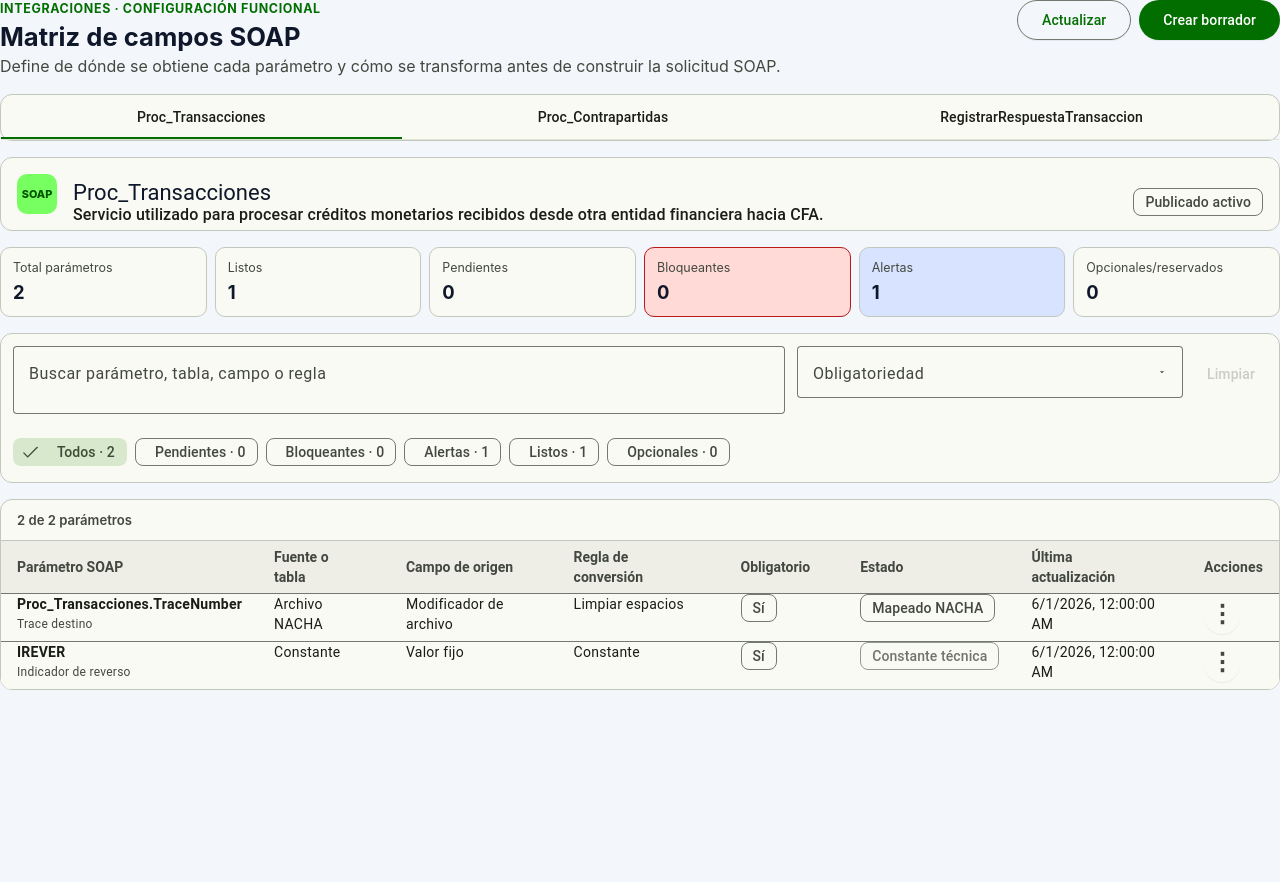
it: MappingSetsPageComponent › clasifica Transaction como fuente transaccional mapeada y no como Sin mapear
Click the tab with test id "soap-service-option": (603, 117) x1=538 y1=109 x2=668 y2=125
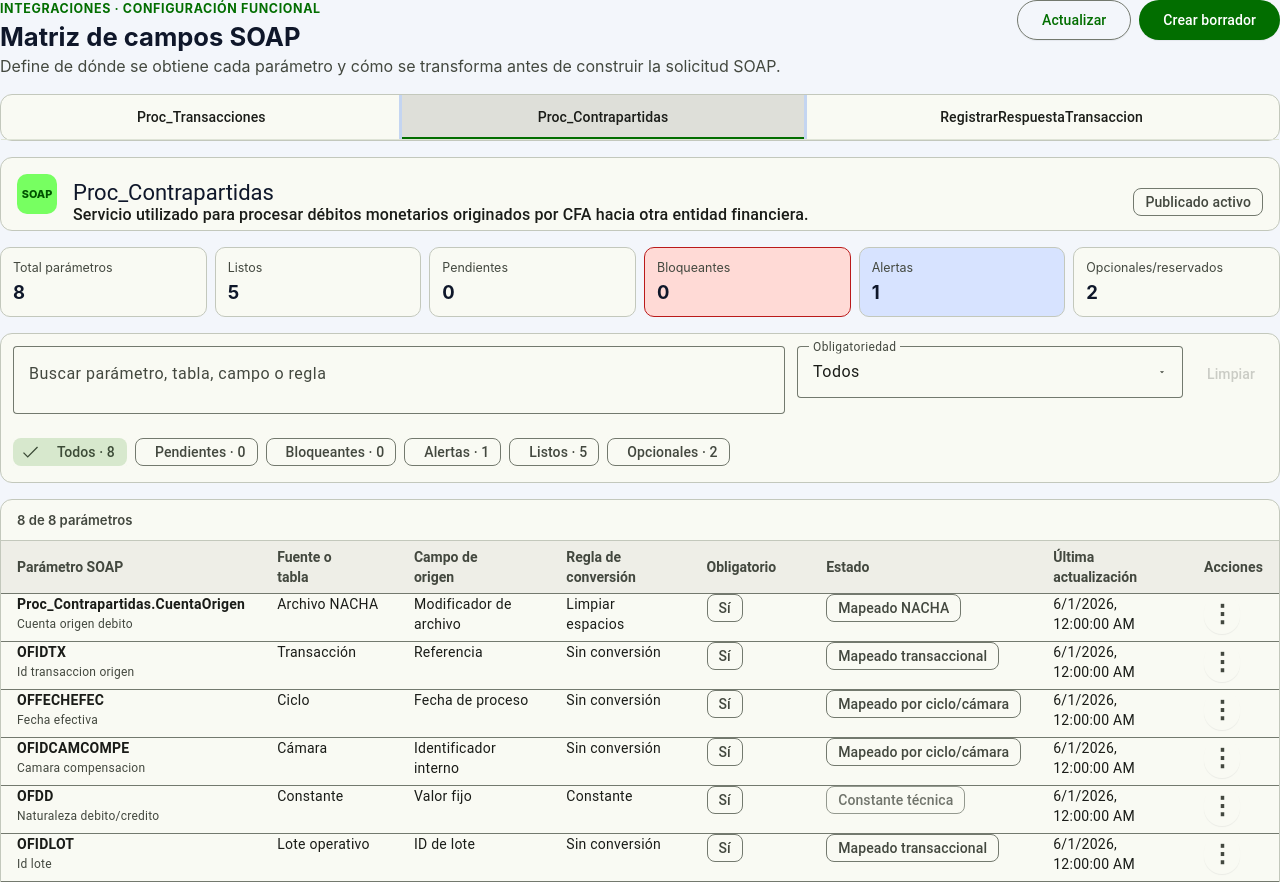
Expected: the row with test id "mapping-matrix-row" shows "Transacción", x1=277 y1=644 x2=356 y2=660
Expected: the row with test id "mapping-matrix-row" shows "Referencia", x1=414 y1=644 x2=483 y2=660
Expected: the row with test id "mapping-matrix-row" shows "Mapeado transaccional", x1=838 y1=648 x2=987 y2=664
